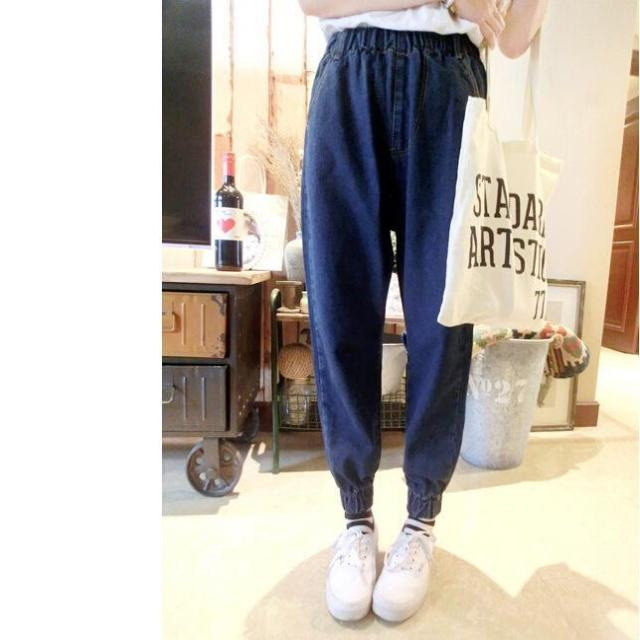trousers: (303, 31, 486, 514)
